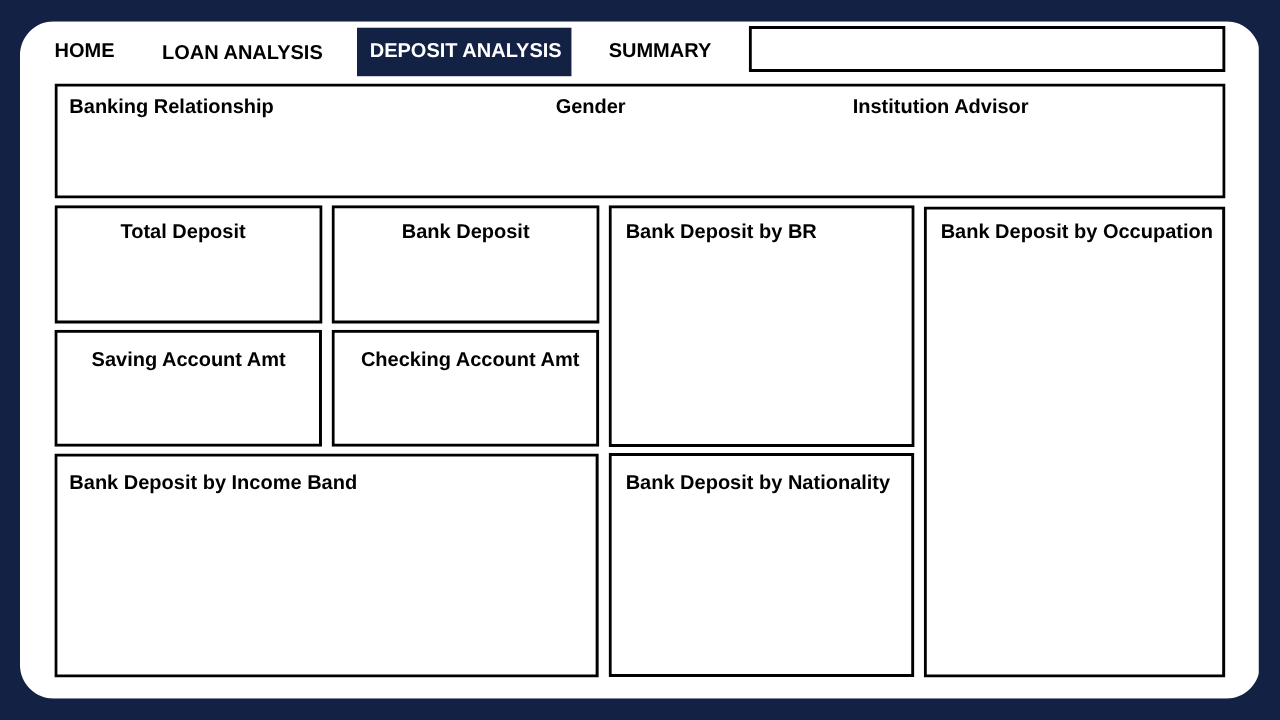

Layout of this report page (visuals, bound fields, positions):
{"tool":"powerbi","page":{"name":"Deposit Analysis","canvas":[1280,720],"ordinal":2},"visuals":[{"type":"slicer","fields":{"Values":["banking_case customer.Year of Joining"]},"box":[737.2,26.5,501.5,40.3],"z":0},{"type":"actionButton","box":[39.1,26.5,99.5,40.3],"z":1000},{"type":"actionButton","box":[362.9,26.5,206.7,40.3],"z":2000},{"type":"actionButton","box":[591,26.5,133.6,40.3],"z":3000},{"type":"card","fields":{"Values":["banking_case customer.Total Deposit"]},"box":[75.6,240.7,211.7,70.6],"z":4000},{"type":"card","fields":{"Values":["Sum(banking_case customer.Bank Deposits)"]},"box":[362.9,240.7,211.7,70.6],"z":5000},{"type":"card","fields":{"Values":["Sum(banking_case customer.Saving Accounts)"]},"box":[89.5,360.4,211.7,71.8],"z":6000},{"type":"card","fields":{"Values":["Sum(banking_case customer.Checking Accounts)"]},"box":[357.9,361.6,211.7,70.6],"z":7000},{"type":"donutChart","fields":{"Category":["banking_case customer.Income Band"],"Y":["Sum(banking_case customer.Bank Deposits)"]},"box":[89.5,488.9,466.2,178.9],"z":8000},{"type":"clusteredColumnChart","fields":{"Category":["banking_case customer.BRId"],"Y":["Sum(banking_case customer.Bank Deposits)"]},"box":[626.3,249.5,272.2,182.7],"z":9000},{"type":"clusteredColumnChart","fields":{"Category":["banking_case customer.Nationality"],"Y":["Sum(banking_case customer.Bank Deposits)"]},"box":[626.3,501.5,272.2,166.3],"z":10000},{"type":"clusteredColumnChart","fields":{"Category":["banking_case customer.BRId"],"Y":["Sum(banking_case customer.Bank Deposits)"]},"box":[928.5,276.3,273.3,391],"z":11000},{"type":"slicer","fields":{"Values":["banking_case customer.BRId"]},"box":[61.7,127.3,446.1,55.4],"z":12000},{"type":"slicer","fields":{"Values":["banking_case customer.GenderId"]},"box":[526.7,126,263.4,56.7],"z":13000},{"type":"slicer","fields":{"Values":["banking_case customer.IAId"]},"box":[840.5,126,331.4,56.7],"z":14000},{"type":"actionButton","box":[146.2,26.5,186.5,40.3],"z":15000}]}

Visuals, with their boxes in screenshot pixels (x1, y1, x2, y2), scaled from the page's 1280x720 canvas onto the 1280x720 screenshot:
slicer - banking_case customer.Year of Joining: [x1=737, y1=26, x2=1239, y2=67]
actionButton: [x1=39, y1=26, x2=139, y2=67]
actionButton: [x1=363, y1=26, x2=570, y2=67]
actionButton: [x1=591, y1=26, x2=725, y2=67]
card - banking_case customer.Total Deposit: [x1=76, y1=241, x2=287, y2=311]
card - Sum(banking_case customer.Bank Deposits): [x1=363, y1=241, x2=575, y2=311]
card - Sum(banking_case customer.Saving Accounts): [x1=90, y1=360, x2=301, y2=432]
card - Sum(banking_case customer.Checking Accounts): [x1=358, y1=362, x2=570, y2=432]
donutChart - banking_case customer.Income Band x Sum(banking_case customer.Bank Deposits): [x1=90, y1=489, x2=556, y2=668]
clusteredColumnChart - banking_case customer.BRId x Sum(banking_case customer.Bank Deposits): [x1=626, y1=250, x2=898, y2=432]
clusteredColumnChart - banking_case customer.Nationality x Sum(banking_case customer.Bank Deposits): [x1=626, y1=502, x2=898, y2=668]
clusteredColumnChart - banking_case customer.BRId x Sum(banking_case customer.Bank Deposits): [x1=928, y1=276, x2=1202, y2=667]
slicer - banking_case customer.BRId: [x1=62, y1=127, x2=508, y2=183]
slicer - banking_case customer.GenderId: [x1=527, y1=126, x2=790, y2=183]
slicer - banking_case customer.IAId: [x1=840, y1=126, x2=1172, y2=183]
actionButton: [x1=146, y1=26, x2=333, y2=67]
